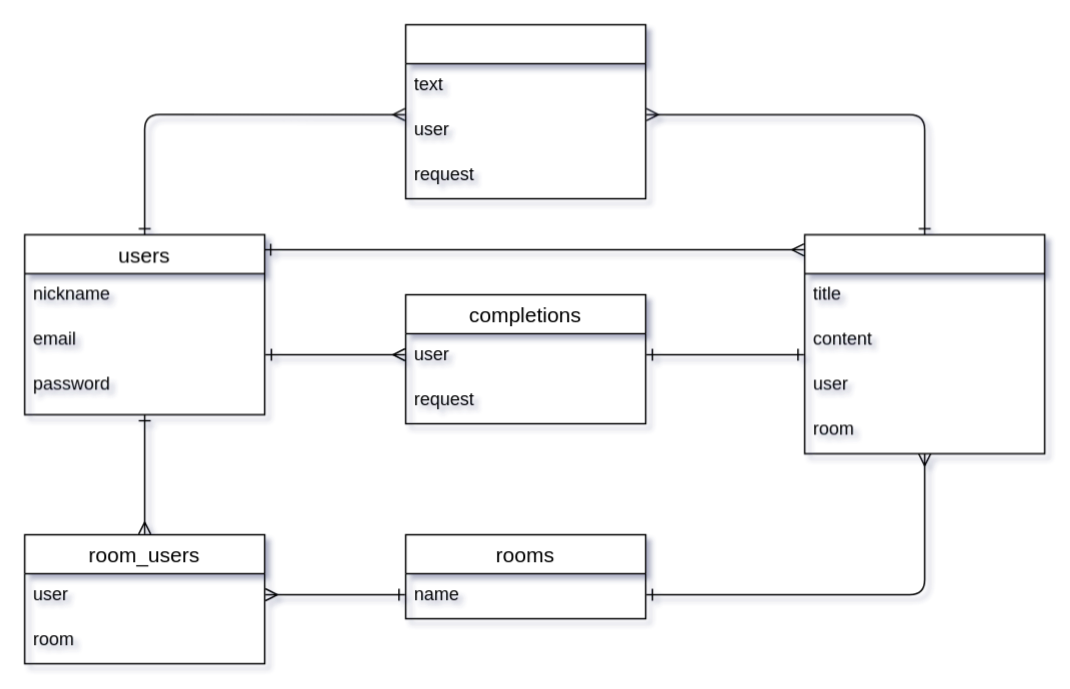
The diagram is 1070 pixels wide and 689 high, and some of its shapes have lost their labels. Here are the shapes that lost their labels. From the top down, the box of each, then its label:
(404, 23, 646, 199): comments
(803, 233, 1045, 454): requests
